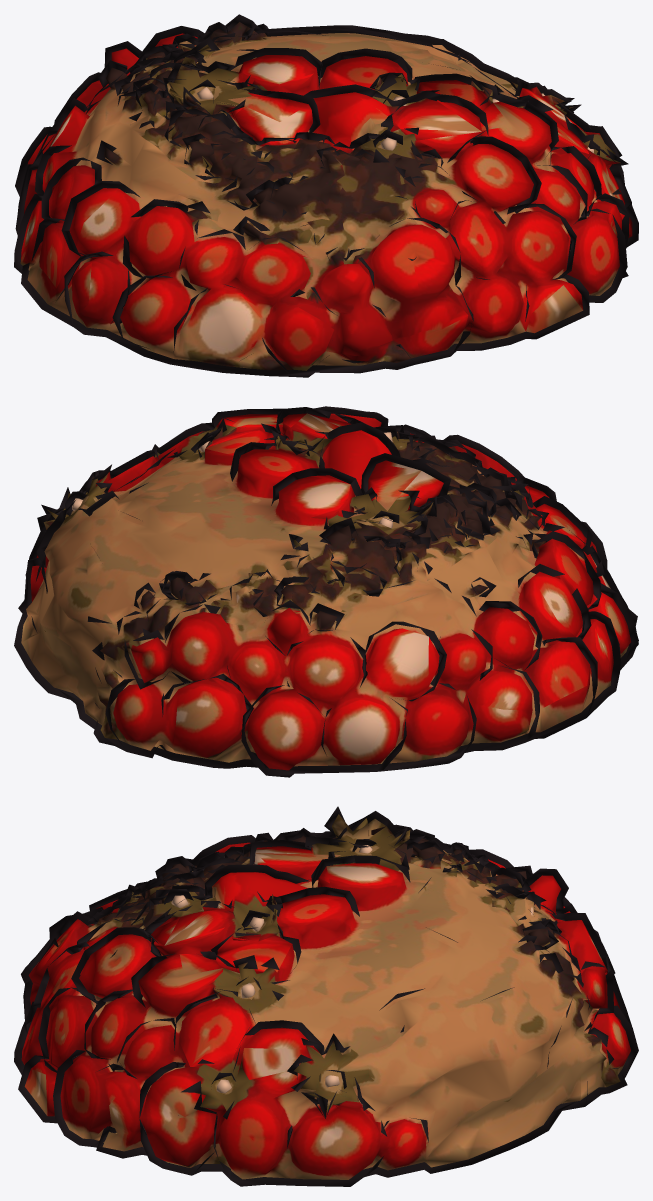
File: SM_Int_Cake.fbx
3 renders of one model, top to bottom at view 1: azimuth 30°, elevation 25°; view 2: azimuth 150°, elevation 25°; view 3: azimuth 270°, elevation 25°, orthographic.
Parts seen in each view (by area): view 1: SM_Int_Cake; view 2: SM_Int_Cake; view 3: SM_Int_Cake.
Boxes of the visible parts, x1,y1,x2,y2 form: SM_Int_Cake: [14, 14, 638, 377]; SM_Int_Cake: [14, 406, 638, 777]; SM_Int_Cake: [14, 806, 638, 1186].
Size of the model in its own units: 0.2486 by 0.0835 by 0.2458.
